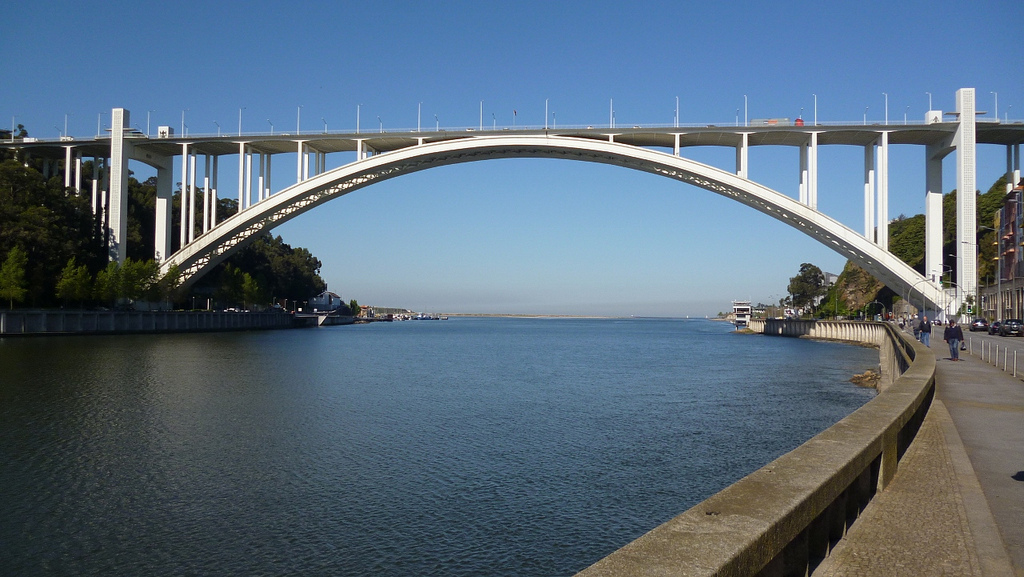arrabida: (0, 87, 1023, 325)
